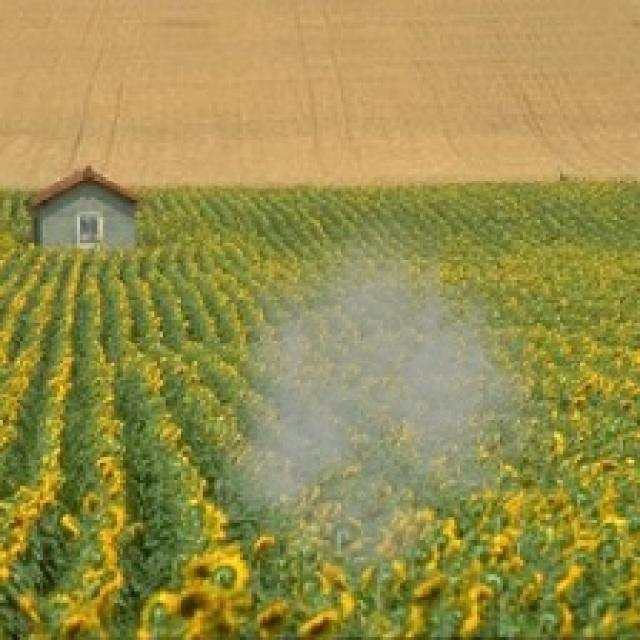Smoke: (217, 200, 574, 606)
